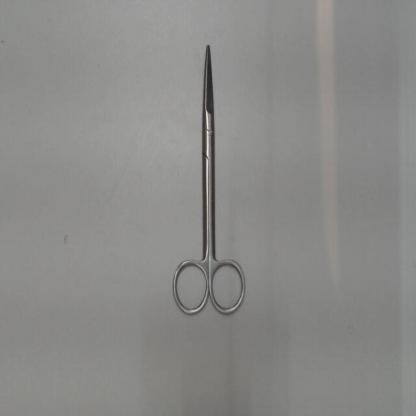Curved Mayo Scissors: (166, 35, 250, 324)
